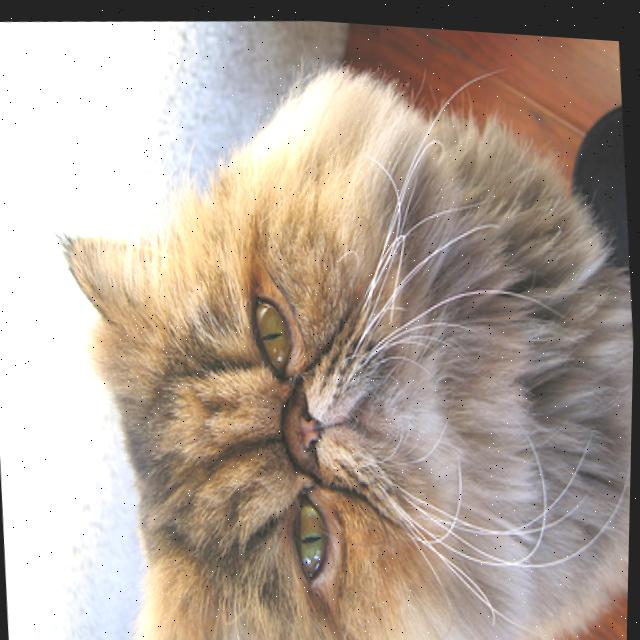Persian: (34, 21, 640, 640)
